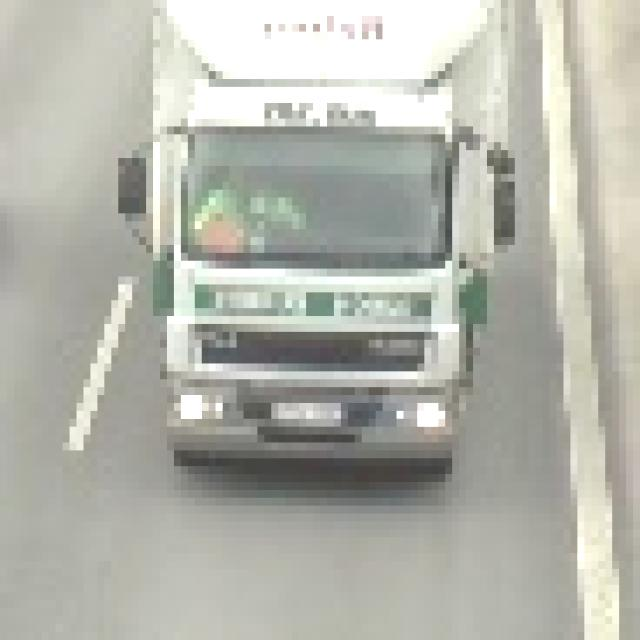truck: (105, 1, 509, 475)
